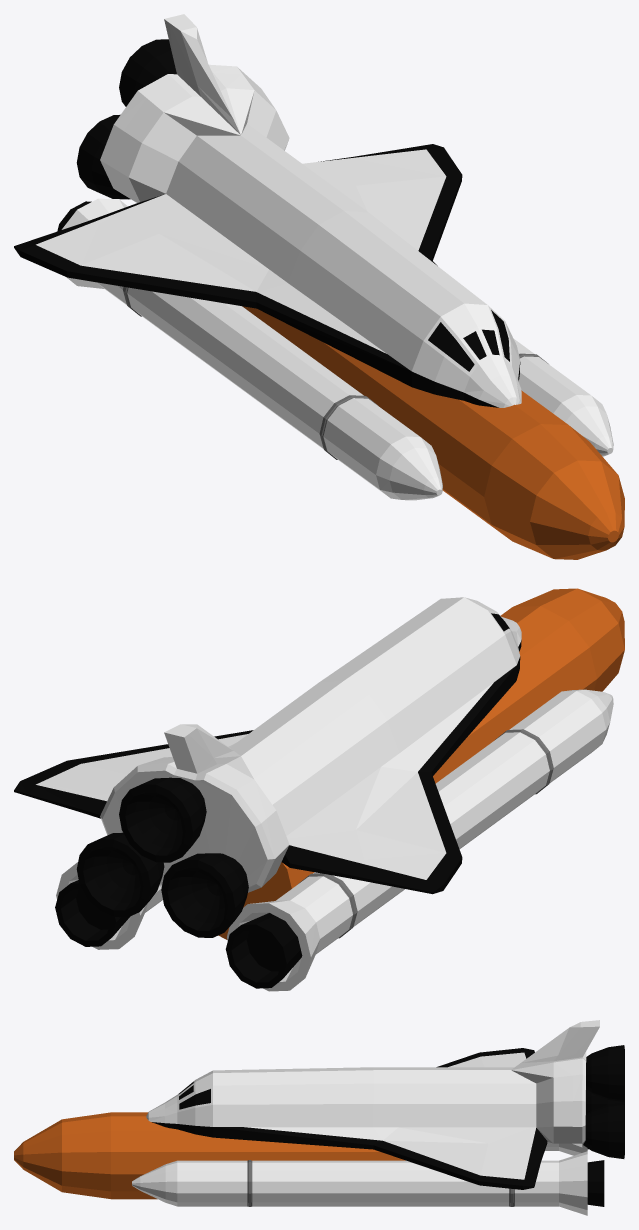
Rendered from 5EkSRo_-wL8.glb.
3 views of the same model, one above another, from view 1: azimuth 30°, elevation 25°; view 2: azimuth 150°, elevation 25°; view 3: azimuth 270°, elevation 25° (orthographic). The views are drawn at different scales.
Visible parts, largest first — view 1: Rocket_Ship; view 2: Rocket_Ship; view 3: Rocket_Ship.
Boxes of the visible parts, x1,y1,x2,y2 form: Rocket_Ship: [14, 14, 624, 559]; Rocket_Ship: [14, 588, 624, 991]; Rocket_Ship: [14, 1020, 624, 1215].
Bounding box in the file's own units: 1.72 × 1 × 3.22.
Materials: 1 (1 with a texture image).
